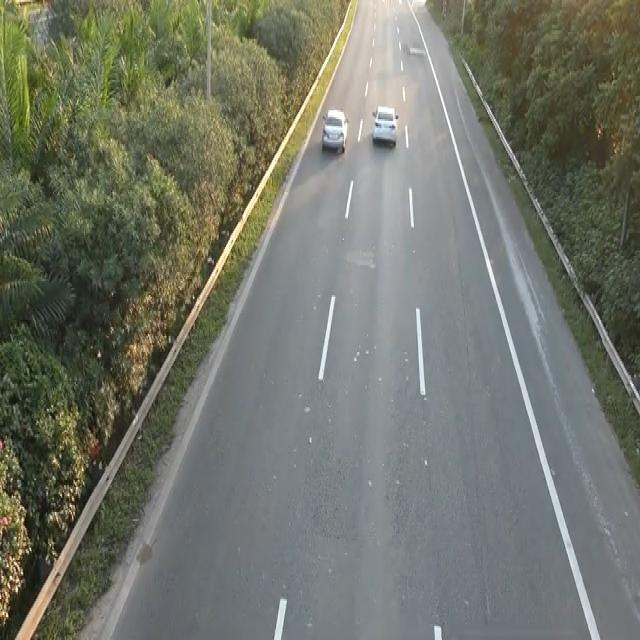bus: (320, 105, 349, 155), (370, 101, 399, 148)
